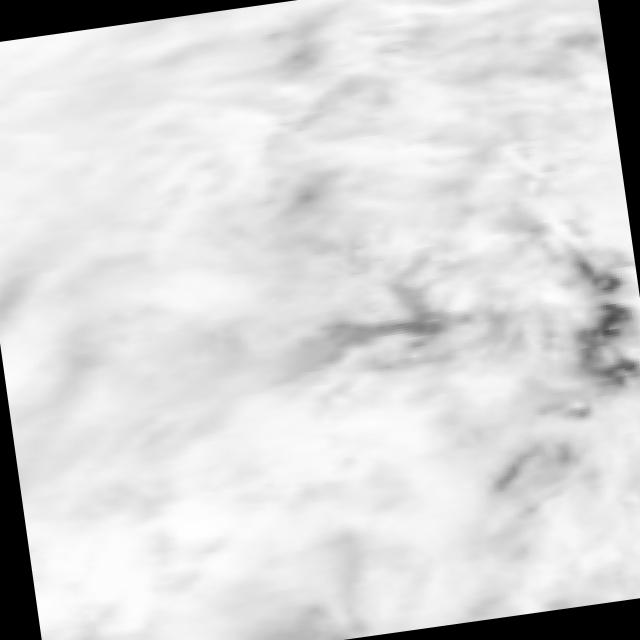CB: (204, 392, 457, 640), (194, 0, 439, 240), (195, 200, 458, 423), (0, 16, 211, 269), (429, 387, 640, 621), (15, 423, 242, 640), (0, 239, 227, 451), (389, 0, 622, 206), (422, 178, 592, 392)
